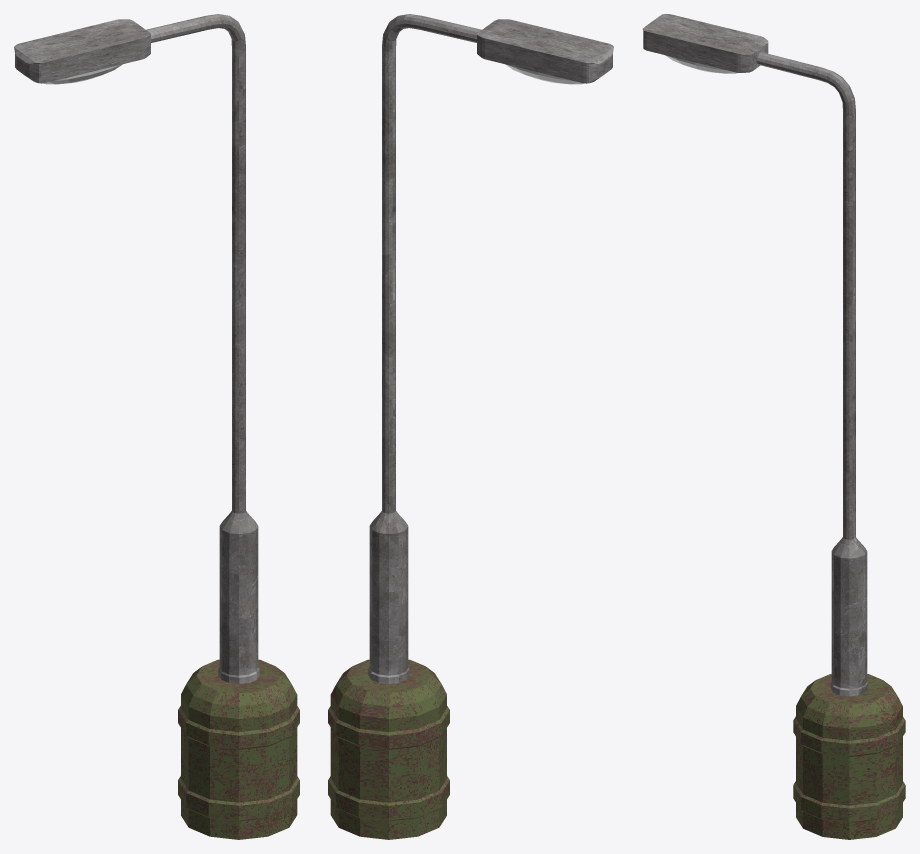
Rendered from street_lamp_1.gltf.
3 renders of one model, left to right at view 1: azimuth 30°, elevation 25°; view 2: azimuth 150°, elevation 25°; view 3: azimuth 330°, elevation 25°, orthographic. The views are drawn at different scales.
Visible parts, largest first — view 1: Base-col, Pole-col, Head-col; view 2: Base-col, Pole-col, Head-col; view 3: Base-col, Pole-col, Head-col.
Boxes of the visible parts, box(x1,y1,x2,y2) form: Base-col: box(178, 659, 299, 839); Pole-col: box(146, 14, 259, 683); Head-col: box(14, 19, 150, 83); Base-col: box(328, 659, 449, 839); Pole-col: box(368, 14, 481, 683); Head-col: box(477, 19, 613, 83); Base-col: box(793, 674, 905, 839); Pole-col: box(757, 52, 868, 696); Head-col: box(642, 14, 768, 72).
Size of the model in its own units: 4.03 by 11.57 by 1.57.
3 materials, 2 textured.
